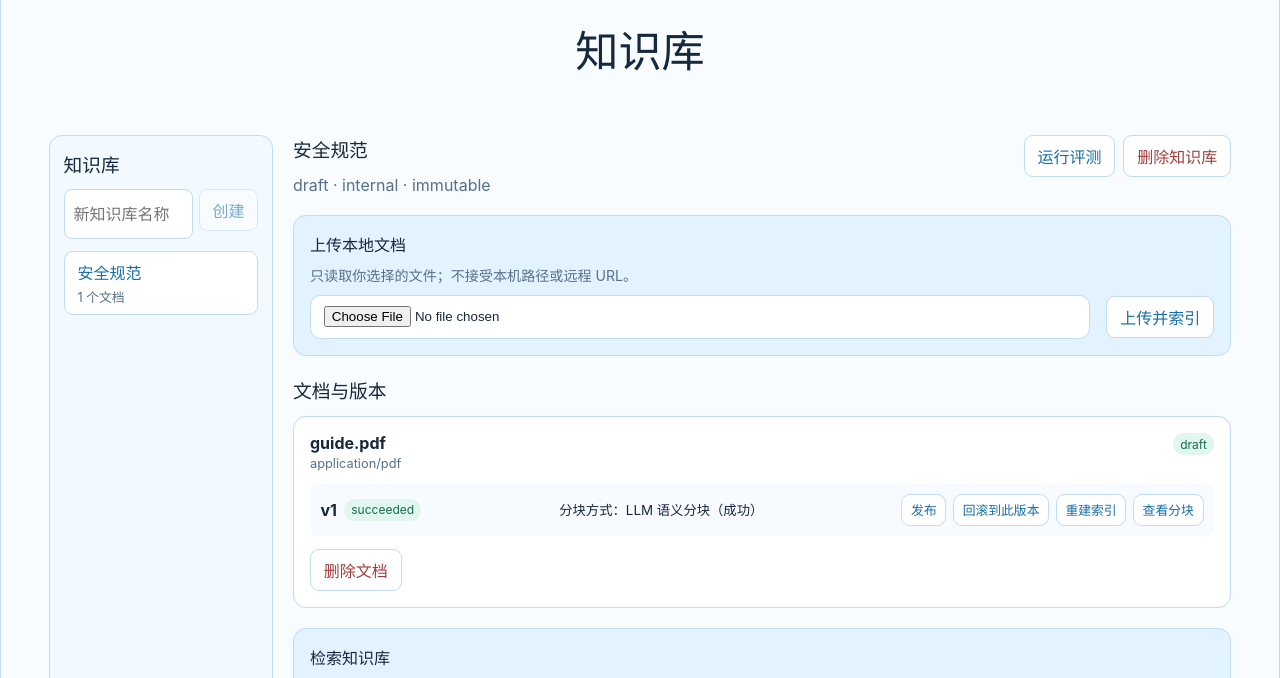
it: KnowledgePage › shows per-case RAG evaluation evidence and failure reasons
Expected: the text "guide.pdf" is shown, [310,433,386,453]
Click the button "运行评测" at (1070, 156), box [1024,135,1115,177]
(page scrolled)
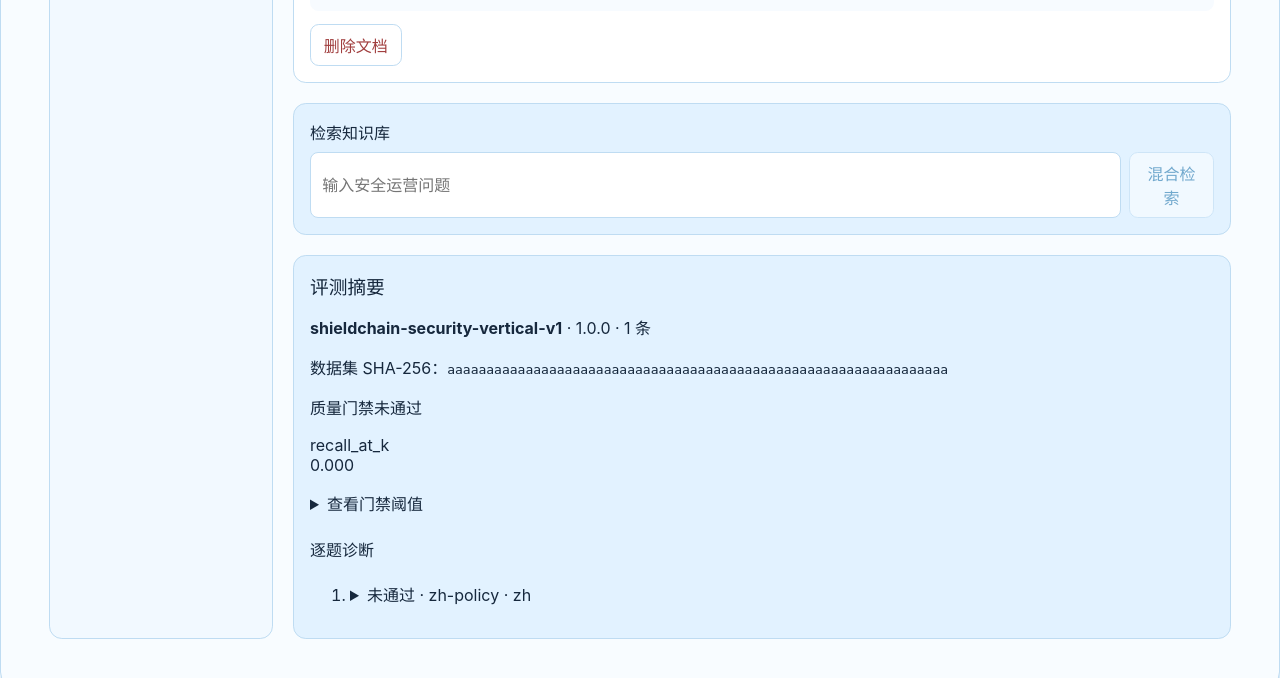
Expected: the heading "未通过 · zh-policy · zh" is shown
Click the heading "未通过 · zh-policy · zh" at (449, 595), box [367,585,531,605]
(page scrolled)
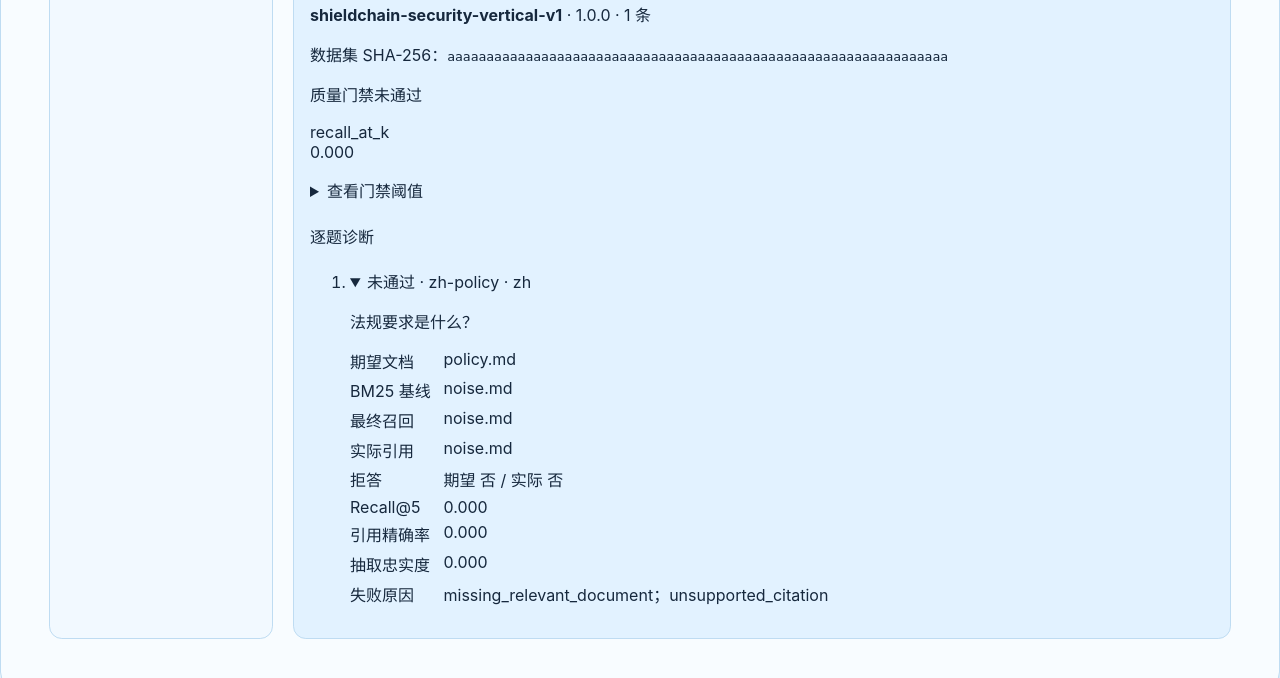
Expected: the text "法规要求是什么？" is shown, [350,312,478,332]
Expected: the text "missing_relevant_document；unsupported_citation" is shown, [444,585,828,605]
Expected: the text "policy.md" is shown, [444,349,516,369]
